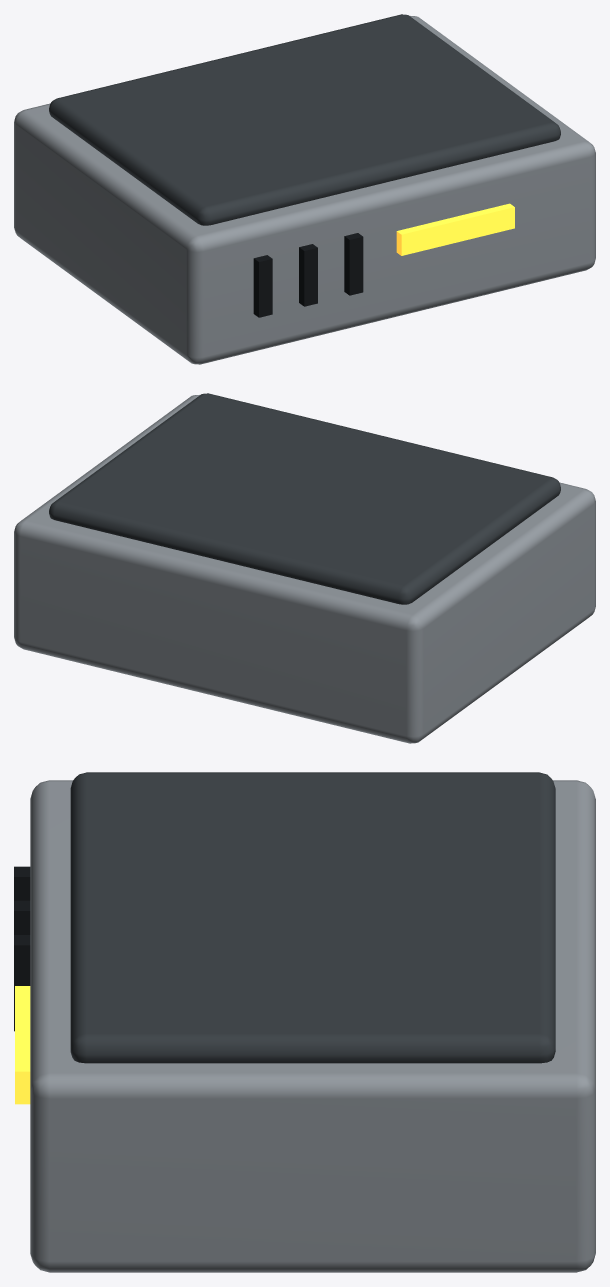
Rendered from ZH_ENV_V5_CLOSED_DIAGNOSTIC_MODULE.fbx.
3 renders of one model, top to bottom at view 1: azimuth 30°, elevation 25°; view 2: azimuth 150°, elevation 25°; view 3: azimuth 270°, elevation 25°, orthographic. The views are drawn at different scales.
Visible parts, largest first — view 1: Diagnostic module | body.001, Diagnostic module | upper panel.001, Diagnostic module | amber readout.001, Diagnostic module | vent.003, Diagnostic module | vent.005, Diagnostic module | vent.004; view 2: Diagnostic module | body.001, Diagnostic module | upper panel.001; view 3: Diagnostic module | body.001, Diagnostic module | upper panel.001, Diagnostic module | amber readout.001, Diagnostic module | vent.005.
Boxes of the visible parts, x1,y1,x2,y2 form: Diagnostic module | body.001: (14, 16, 595, 364); Diagnostic module | upper panel.001: (49, 14, 560, 225); Diagnostic module | amber readout.001: (396, 203, 514, 255); Diagnostic module | vent.003: (253, 255, 272, 317); Diagnostic module | vent.005: (344, 233, 363, 295); Diagnostic module | vent.004: (299, 244, 317, 306); Diagnostic module | body.001: (14, 395, 595, 743); Diagnostic module | upper panel.001: (49, 393, 560, 604); Diagnostic module | body.001: (30, 780, 595, 1272); Diagnostic module | upper panel.001: (70, 772, 555, 1063); Diagnostic module | amber readout.001: (15, 986, 30, 1104); Diagnostic module | vent.005: (14, 935, 30, 1031).
Bounding box in the file's own units: 0.36 × 0.121 × 0.288.
